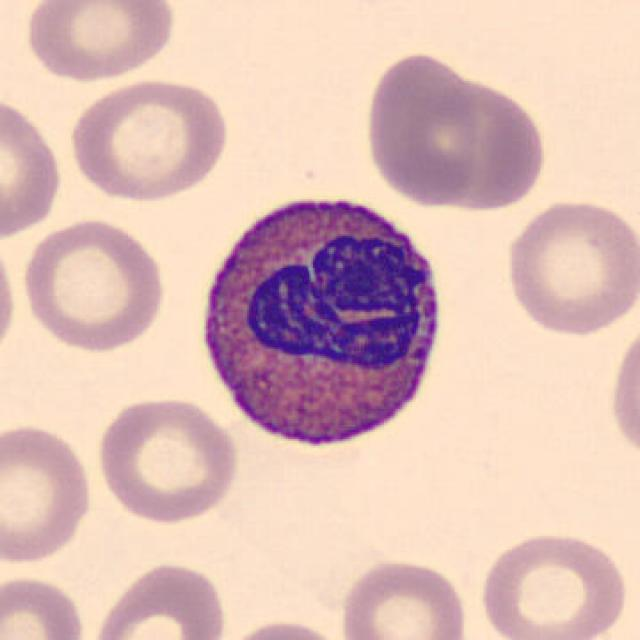Eosinophil: (186, 177, 458, 468)
RBC: (64, 74, 233, 205), (18, 213, 169, 354), (92, 392, 242, 526), (500, 194, 638, 338), (361, 49, 483, 208), (422, 71, 550, 215), (473, 525, 631, 640), (0, 418, 96, 568), (19, 0, 180, 85), (87, 557, 233, 640), (336, 555, 471, 640), (0, 91, 66, 242), (0, 571, 89, 640), (606, 316, 640, 470), (215, 615, 350, 640), (0, 227, 21, 366)
